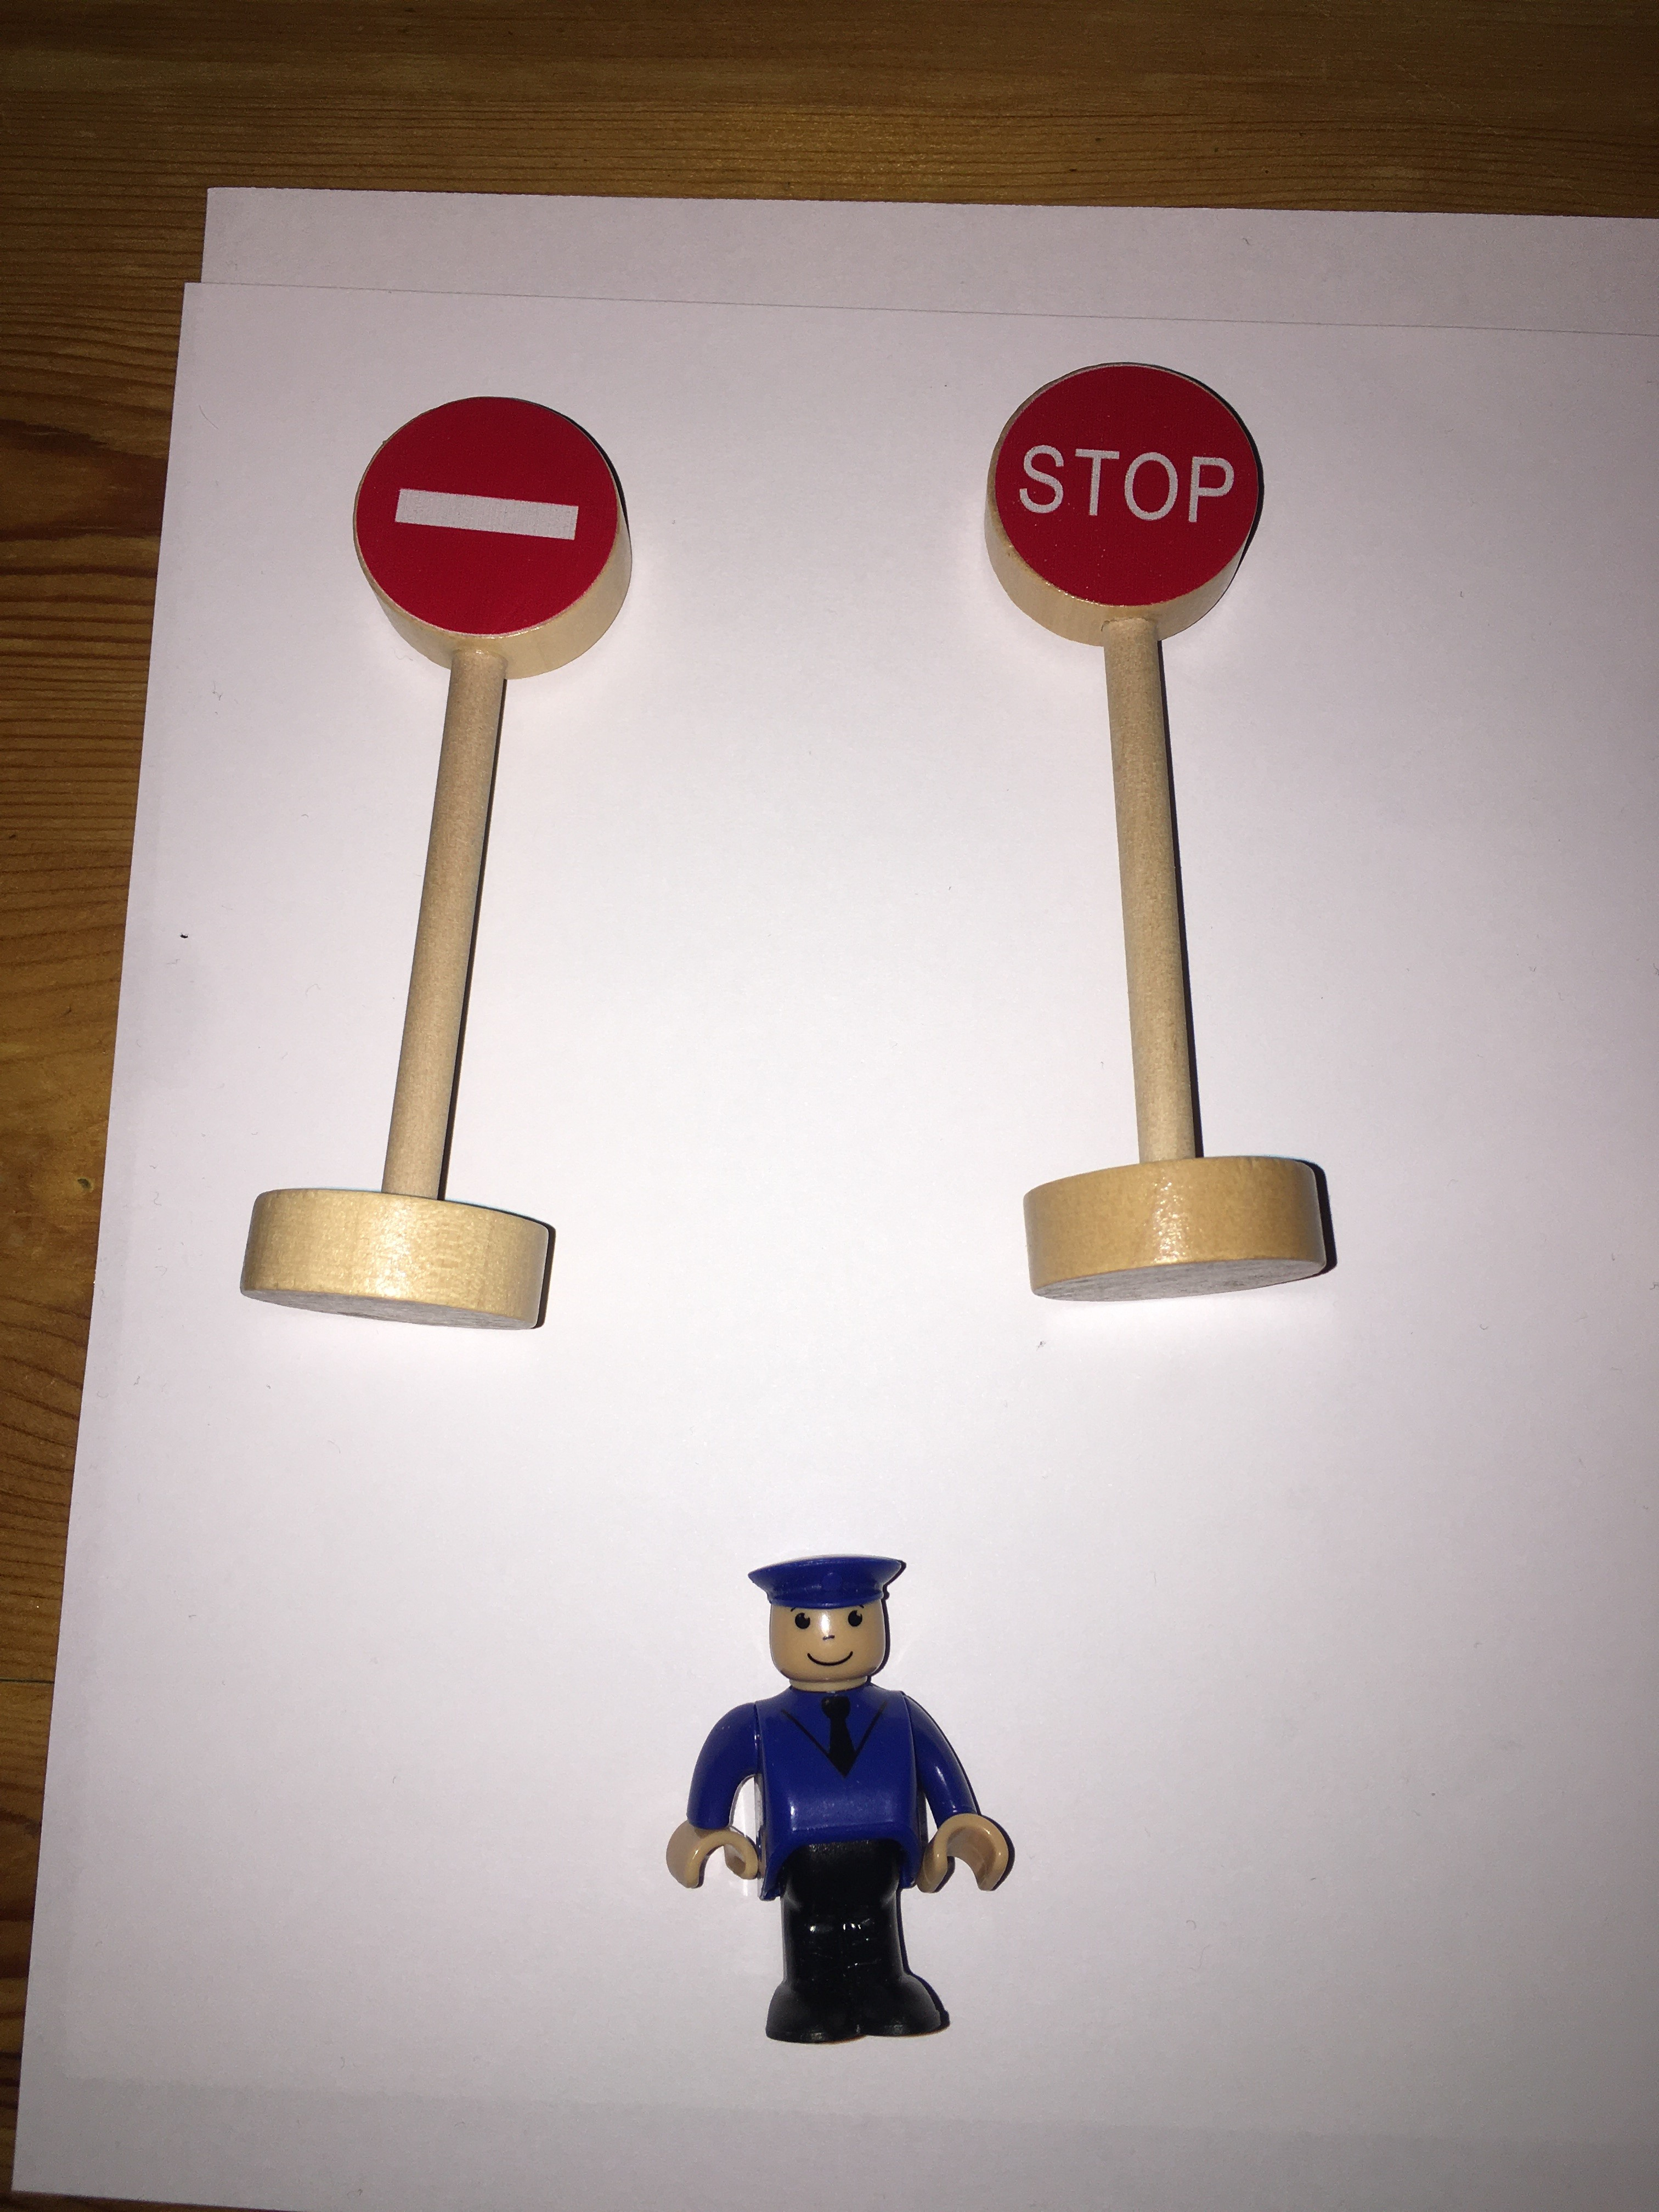Traffic_Sign_No_Entry: (360, 391, 623, 635)
Traffic_Sign_Stop: (986, 363, 1260, 603)
person: (657, 1548, 1026, 2051)
